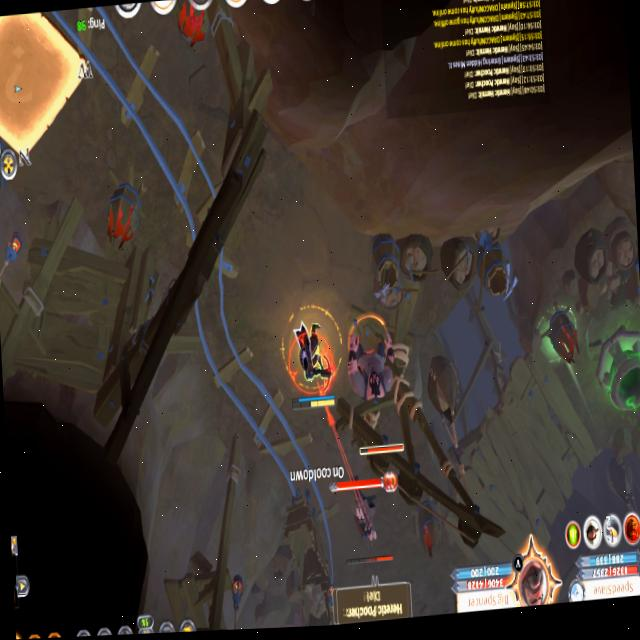ore: (340, 312, 416, 466), (335, 489, 398, 580)
red: (284, 317, 342, 417)
